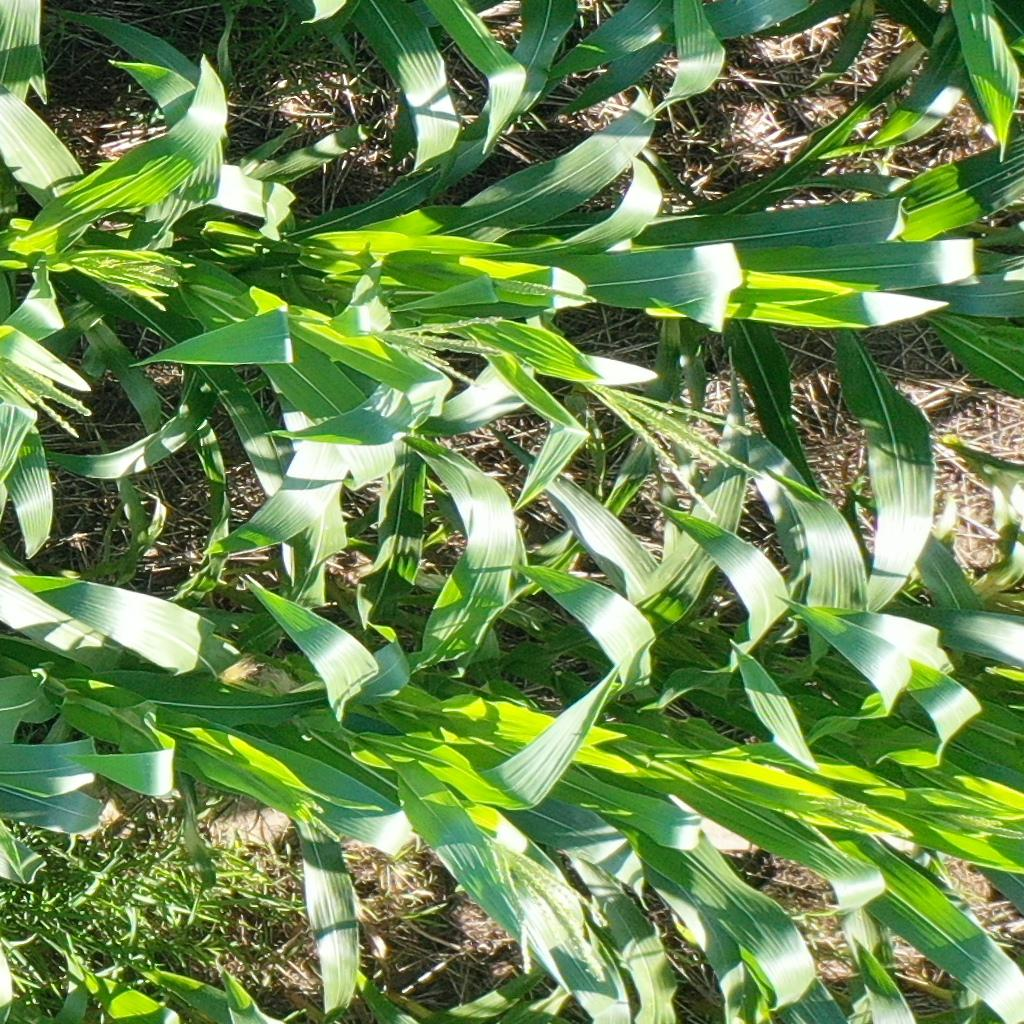Tassel: (594, 377, 762, 525), (477, 829, 613, 984), (376, 303, 518, 385), (1, 349, 93, 437), (72, 239, 188, 304), (808, 792, 898, 843), (486, 272, 594, 314), (940, 799, 1024, 846)
